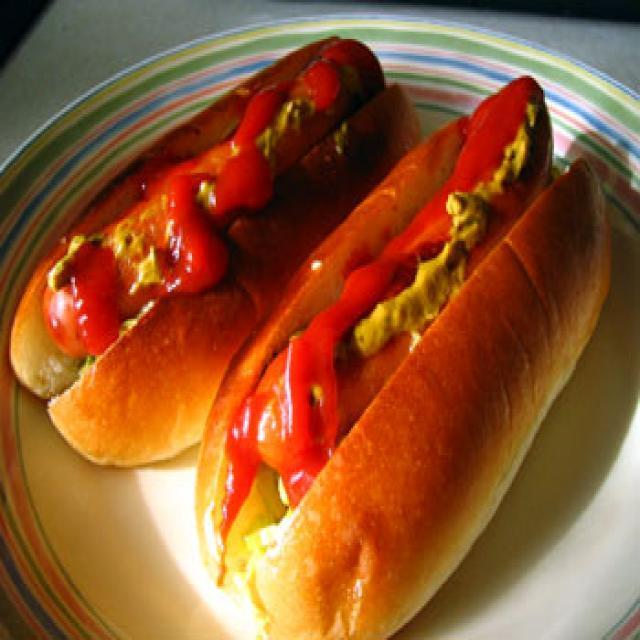Hot Dog: (219, 99, 594, 618), (13, 59, 390, 422)
